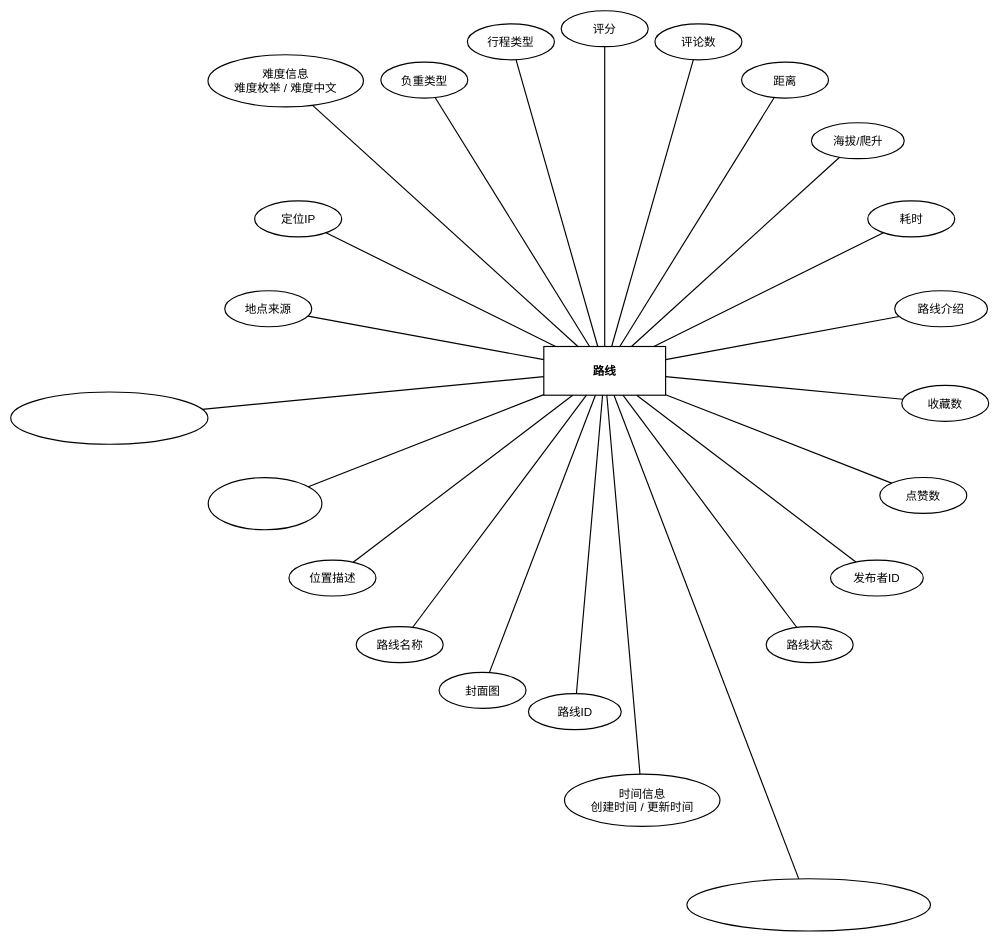
The diagram is 999 pixels wide and 941 high, and some of its shapes have lost their labels. The shapes that lost their labels are listed below. From the top down, each one's centre as x and y in pixels, then its label:
(x=109, y=418): 结构化地点 国家 / 省 / 市 / 区县
(x=264, y=503): 起点坐标 经度 / 纬度
(x=808, y=904): 审核信息 审核状态 / 备注 / 审核管理员 / 审核时间
